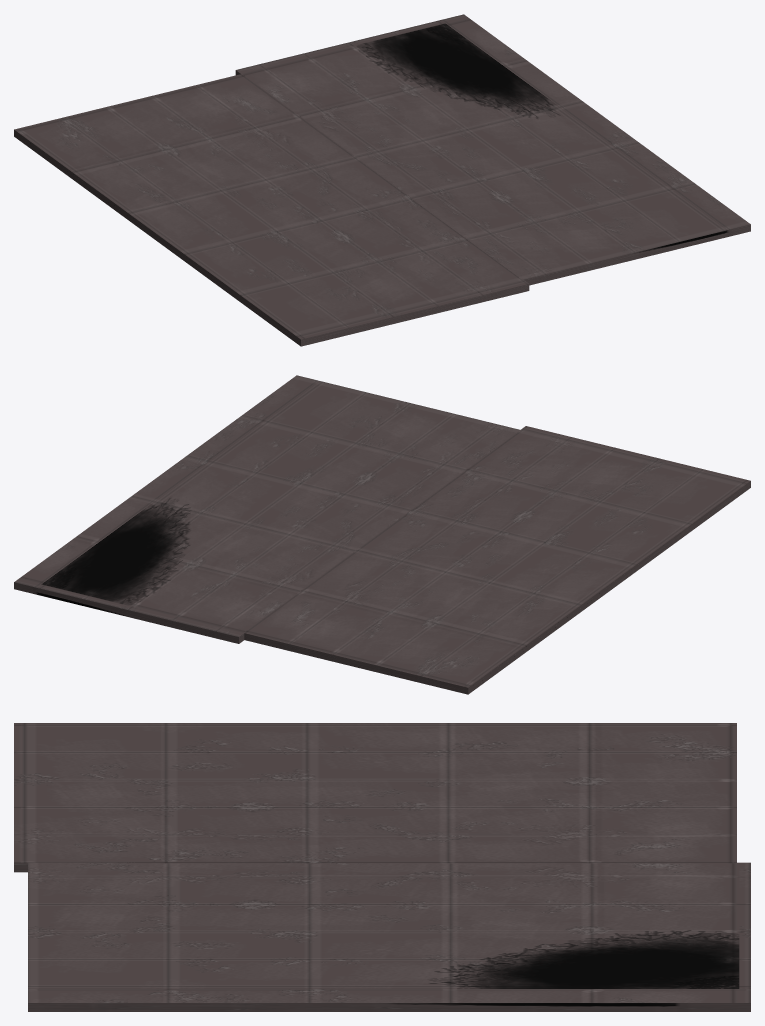
The model's file is Boden.fbx.
3 renders of one model, top to bottom at view 1: azimuth 30°, elevation 25°; view 2: azimuth 150°, elevation 25°; view 3: azimuth 270°, elevation 25°, orthographic. The views are drawn at different scales.
Visible parts, largest first — view 1: pCube24, pasted__pCube24; view 2: pCube24, pasted__pCube24; view 3: pasted__pCube24, pCube24.
Boxes of the visible parts, x1,y1,x2,y2 form: pCube24: (14, 74, 529, 346); pasted__pCube24: (235, 14, 750, 285); pCube24: (243, 426, 750, 694); pasted__pCube24: (14, 375, 519, 643); pasted__pCube24: (28, 862, 750, 1011); pCube24: (14, 723, 736, 872).
Size of the model in its own units: 33.9 by 0.5 by 37.71.
Materials: 2 (2 with a texture image).
